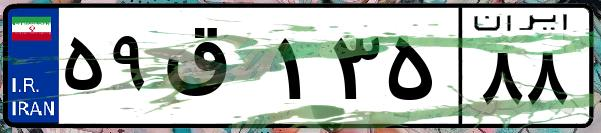1: (270, 28, 330, 110)
3: (330, 28, 385, 110)
5: (385, 28, 445, 110), (57, 26, 110, 100)
8: (475, 38, 525, 113), (525, 38, 570, 115)
9: (110, 28, 158, 98)
ق: (158, 20, 270, 120)
